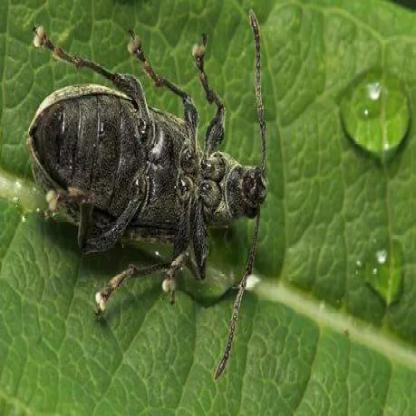aphid: (22, 4, 270, 370)
